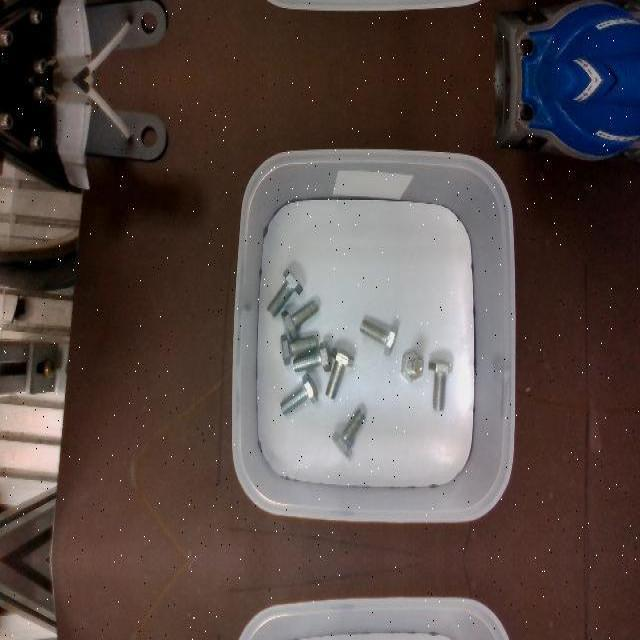screw: (267, 267, 303, 317), (331, 407, 365, 457), (281, 299, 319, 341), (280, 372, 318, 414), (325, 345, 354, 399), (359, 319, 397, 357), (428, 358, 453, 410), (293, 340, 331, 372), (280, 334, 317, 366), (401, 350, 423, 382)
